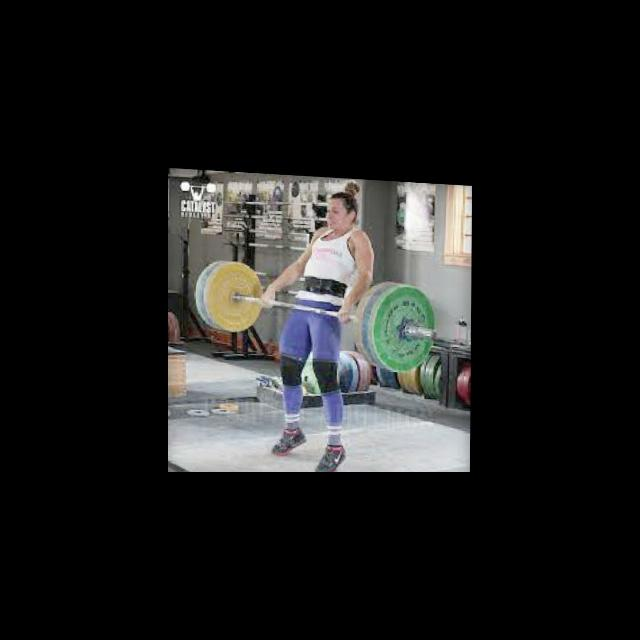barbell: (370, 282, 440, 374)
